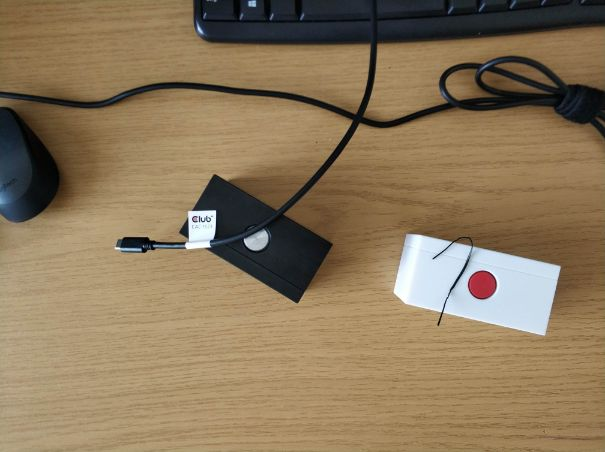black+black+silver: (174, 170, 337, 307)
white+white+red: (391, 230, 564, 340)
